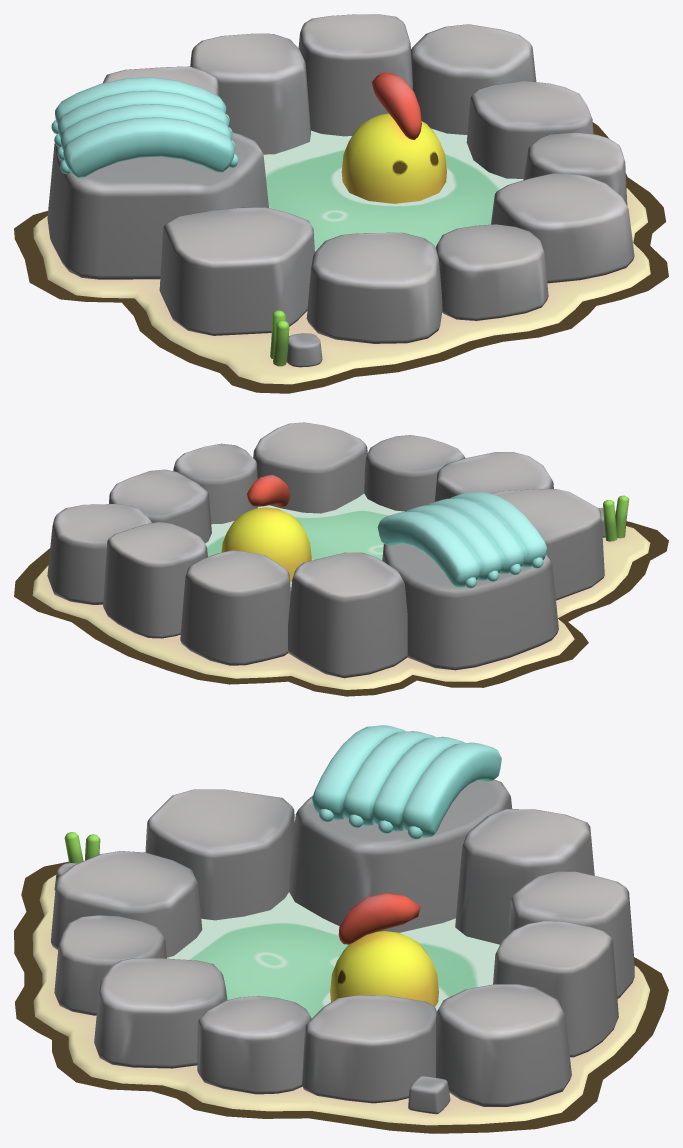
Rendered from HotSpring01.fbx.
3 views of the same model, one above another, from view 1: azimuth 30°, elevation 25°; view 2: azimuth 150°, elevation 25°; view 3: azimuth 270°, elevation 25° (orthographic). The views are drawn at different scales.
Parts seen in each view (by area): view 1: polySurface3, polySurface22, polySurface29, polySurface2; view 2: polySurface3, polySurface22, polySurface29, polySurface2; view 3: polySurface3, polySurface22, polySurface29, polySurface2.
Part boxes in pixels (x1,y1,x2,y2): polySurface3: (33,14,650,384); polySurface22: (51,77,238,177); polySurface29: (14,122,668,393); polySurface2: (341,72,446,203); polySurface3: (32,422,650,689); polySurface22: (377,492,547,588); polySurface29: (14,521,668,696); polySurface2: (221,475,311,582); polySurface3: (32,779,649,1125); polySurface22: (312,725,501,839); polySurface29: (14,861,668,1133); polySurface2: (330,893,438,1006).
Bounding box in the file's own units: 347 × 83.36 × 325.
